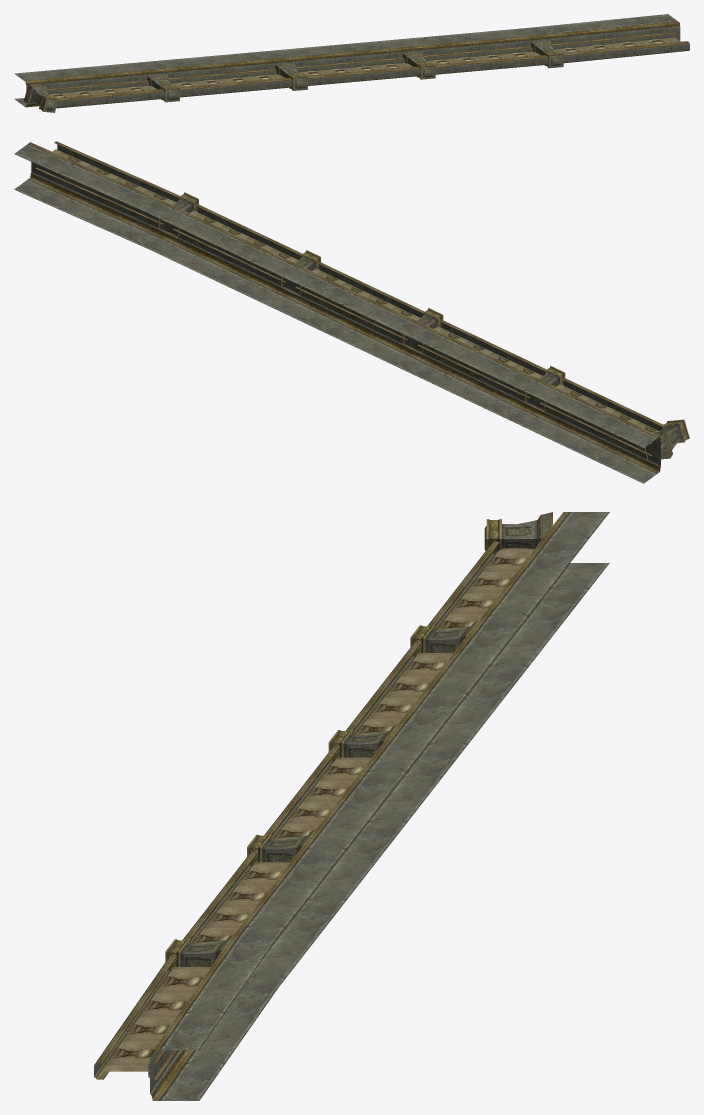
The model's file is zhucheng_yewai_291_langan_d.obj.
3 views of the same model, one above another, from view 1: azimuth 30°, elevation 25°; view 2: azimuth 150°, elevation 25°; view 3: azimuth 270°, elevation 25° (orthographic). The views are drawn at different scales.
Visible parts, largest first — view 1: zhucheng_yewai_291_langan_a07; view 2: zhucheng_yewai_291_langan_a07; view 3: zhucheng_yewai_291_langan_a07.
Part boxes in pixels (left/top/right/bottom): zhucheng_yewai_291_langan_a07: left=14, top=14, right=689, bottom=112; zhucheng_yewai_291_langan_a07: left=14, top=141, right=689, bottom=483; zhucheng_yewai_291_langan_a07: left=94, top=512, right=609, bottom=1100.
Size of the model in its own units: 1017 by 44.9 by 408.
2 materials, 2 textured.
